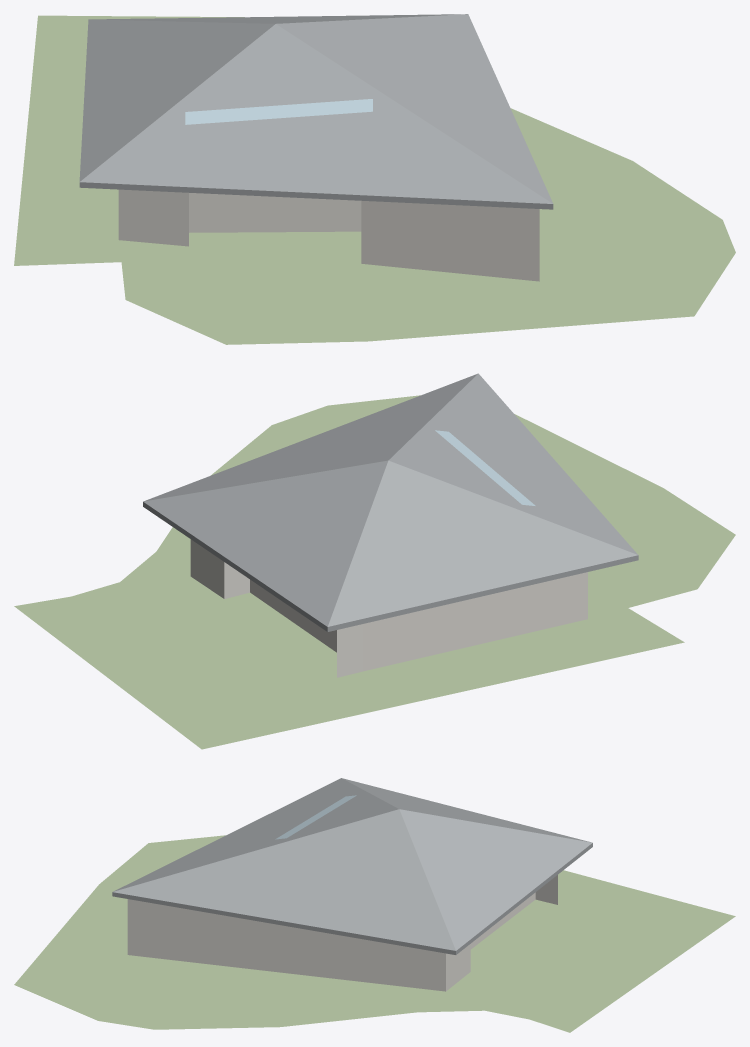
File: atelier.glb
The picture shows the model from 3 angles, top to bottom: view 1: azimuth 30°, elevation 25°; view 2: azimuth 150°, elevation 25°; view 3: azimuth 270°, elevation 25°; orthographic projection. The views are drawn at different scales.
Parts seen in each view (by area): view 1: parcelle, toit, murs, verriere; view 2: toit, parcelle, murs, verriere; view 3: parcelle, toit, murs, verriere.
Boxes of the visible parts, box(x1,y1,x2,y2) form: parcelle: box(14, 15, 735, 344); toit: box(79, 14, 553, 209); murs: box(118, 189, 539, 281); verriere: box(185, 99, 372, 124); toit: box(143, 373, 638, 631); parcelle: box(14, 395, 735, 749); murs: box(190, 539, 587, 677); verriere: box(435, 430, 535, 505); parcelle: box(14, 835, 735, 1032); toit: box(112, 778, 592, 954); murs: box(127, 875, 557, 991); verriere: box(275, 795, 356, 839).
Size of the model in its own units: 49.6 by 12 by 69.08.
